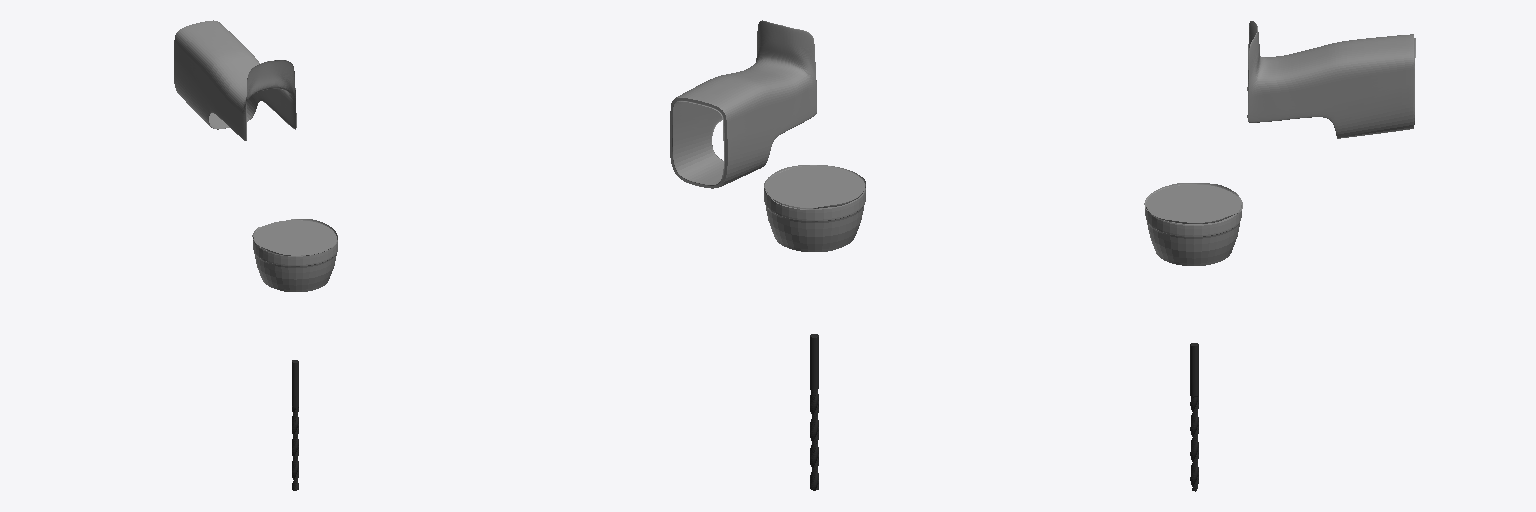
The robot description file, URDF, robot "drill":
<?xml version="1.0"?>
<!-- created with Phobos 1.0.1 "Capricious Choutengan" -->
  <robot name="drill">

    <link name="drillbit_bone">
      <inertial>
        <origin xyz="0 0 0" rpy="0 0 0"/>
        <mass value="0.001"/>
        <inertia ixx="0.001" ixy="0" ixz="0" iyy="0.001" iyz="0" izz="0.001"/>
      </inertial>
      <visual name="drillbit">
        <origin xyz="-0.00014 0.00027 0.0006" rpy="0 0 3.14159"/>
        <geometry>
          <mesh filename="meshes/dae/g_Drillbit_01.dae" scale="0.07123 0.07123 0.07123"/>
        </geometry>
        <material name="mecha"/>
      </visual>
      <collision name="drillbit">
        <origin xyz="-0.00014 0.00027 -0.00017" rpy="0 0 3.14159"/>
        <geometry>
          <box size="0.00279 0.00279 0.05353"/>
        </geometry>
      </collision>
    </link>

    <link name="grip_bone">
      <inertial>
        <origin xyz="0 -0.03671 -4e-05" rpy="0 0 0"/>
        <mass value="1.5"/>
        <inertia ixx="0.001" ixy="0" ixz="0" iyy="0.001" iyz="0" izz="0.001"/>
      </inertial>
      <visual name="body1">
        <origin xyz="0.11413 -0.12082 -0.01599" rpy="1.5708 0 0"/>
        <geometry>
          <mesh filename="meshes/dae/g_g_carcaza_carcaza001.dae" scale="0.07123 0.07123 0.07123"/>
        </geometry>
        <material name="mango"/>
      </visual>
      <collision name="body1.000">
        <origin xyz="0.11469 -0.12163 -0.01611" rpy="1.5708 0 0"/>
        <geometry>
          <mesh filename="meshes/dae/g_g_carcaza_carcaza001.001.dae" scale="0.07123 0.07123 0.07123"/>
        </geometry>
      </collision>
    </link>

    <contact>
        <lateral_friction value="100"/>
    </contact>

    <link name="root">
      <inertial>
        <origin xyz="0 0 0" rpy="0 0 0"/>
        <mass value="0.001"/>
        <inertia ixx="0.001" ixy="0" ixz="0" iyy="0.001" iyz="0" izz="0.001"/>
      </inertial>
      <visual name="body2">
        <origin xyz="0.11475 0.05071 -0.1449" rpy="-3.14159 0 0"/>
        <geometry>
          <mesh filename="meshes/dae/g_g_soporte_del_taladro_soporte_del_taladro001.dae" scale="0.07123 0.07123 0.07123"/>
        </geometry>
        <material name="soporte__del_taladro"/>
      </visual>
      <visual name="body3">
        <origin xyz="0.11475 0.05071 -0.1449" rpy="-3.14159 0 0"/>
        <geometry>
          <mesh filename="meshes/dae/g_g_taladro_taladro001.dae" scale="0.07123 0.07123 0.07123"/>
        </geometry>
        <material name="taladro"/>
      </visual>
      <visual name="body4">
        <origin xyz="0.11475 0.05071 -0.1449" rpy="-3.14159 0 0"/>
        <geometry>
          <mesh filename="meshes/dae/meshId5_name.dae" scale="0.07123 0.07123 0.07123"/>
        </geometry>
        <material name="Carcasa"/>
      </visual>
      <collision name="body2">
        <origin xyz="0.00044 0.00046 -0.08283" rpy="-3.14159 0 0"/>
        <geometry>
          <sphere radius="0.01596"/>
        </geometry>
      </collision>
      <collision name="body3.000">
        <origin xyz="0.11451 0.05079 -0.14454" rpy="-3.14159 0 0"/>
        <geometry>
          <mesh filename="meshes/dae/g_g_taladro_taladro001.001.dae" scale="0.24711 0.24711 0.24711"/>
        </geometry>
      </collision>
      <collision name="body4.000">
        <origin xyz="0.11523 0.05029 -0.14477" rpy="-3.14159 0 0"/>
        <geometry>
          <mesh filename="meshes/dae/meshId5_name.001.dae" scale="0.24711 0.24711 0.24711"/>
        </geometry>
      </collision>
    </link>

    <contact>
        <lateral_friction value="100"/>
    </contact>

    <joint name="drillbit_bone" type="fixed">
      <origin xyz="0.00052 0.00107 -0.18095" rpy="3.14159 0 0"/>
      <parent link="root"/>
      <child link="drillbit_bone"/>
    </joint>

    <joint name="grip_bone" type="fixed">
      <origin xyz="0.00063 0.03473 -0.02401" rpy="1.5708 0 0"/>
      <parent link="root"/>
      <child link="grip_bone"/>
    </joint>

    <material name="Carcasa">
      <color rgba="0.9569 0.9176 0.5882 1.0"/>
    </material>

    <material name="mango">
      <color rgba="0.5882 0.5882 0.5882 1.0"/>
    </material>

    <material name="mecha">
      <color rgba="0.2196 0.2196 0.2196 1.0"/>
    </material>

    <material name="soporte__del_taladro">
      <color rgba="0.588 0.588 0.588 1.0"/>
    </material>

    <material name="taladro">
      <color rgba="0.6157 0.5882 0.7843 1.0"/>
    </material>

  </robot>

--- Facts derived from the render (not from the file) ---
The picture shows the robot from 3 angles, left to right: view 1: azimuth 30°, elevation 25°; view 2: azimuth 150°, elevation 25°; view 3: azimuth 270°, elevation 25°; orthographic projection.
Robot: drill — 3 links, 2 joints (2 fixed); root link root; default pose: all joints at 0.
Visible links, largest first — view 1: grip_bone, root, drillbit_bone; view 2: grip_bone, root, drillbit_bone; view 3: grip_bone, root, drillbit_bone.
Boxes of the visible links, bbox=[...] form: grip_bone: bbox=[174, 20, 337, 255]; root: bbox=[253, 220, 337, 291]; drillbit_bone: bbox=[292, 360, 298, 490]; grip_bone: bbox=[670, 20, 865, 209]; root: bbox=[764, 166, 865, 251]; drillbit_bone: bbox=[810, 334, 818, 490]; grip_bone: bbox=[1144, 21, 1415, 223]; root: bbox=[1145, 184, 1241, 265]; drillbit_bone: bbox=[1190, 343, 1198, 491].
Size in the robot's own frame: 0.0319 by 0.0896 by 0.1688 metres.
Meshes: 5 distinct files referenced, 3 mesh visuals loaded (3 Collada DAE); not drawn: 2 (reference not matched to a file when rendering).
